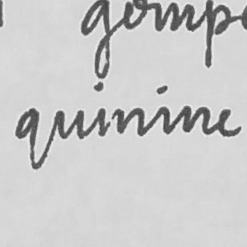e: (214, 105, 243, 139)
i: (154, 83, 174, 138), (90, 80, 108, 139)
n: (178, 102, 213, 137), (114, 103, 148, 139)
q: (13, 105, 47, 171)
u: (52, 105, 87, 141)
